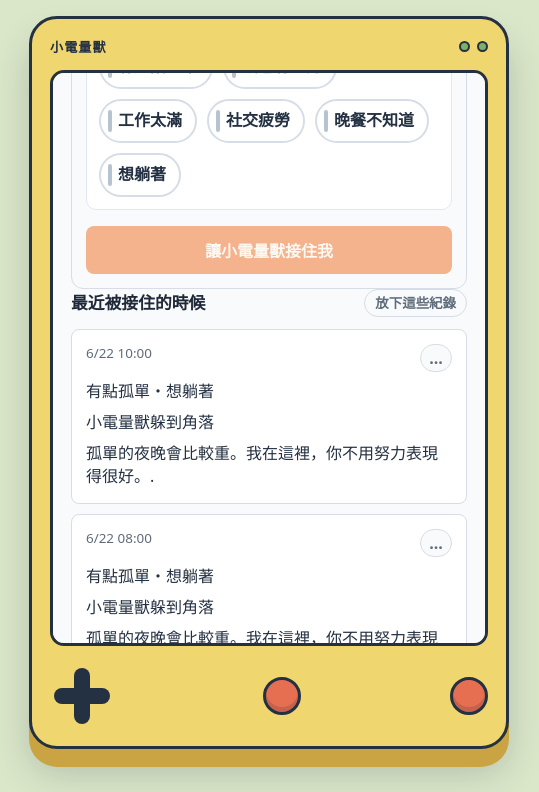
App › shows the cleared empty state after deleting the last local history day
(page scrolled)
Click the button "..." in the row of "6/22 10:00" at [436, 358], box 420,344 -> 452,372
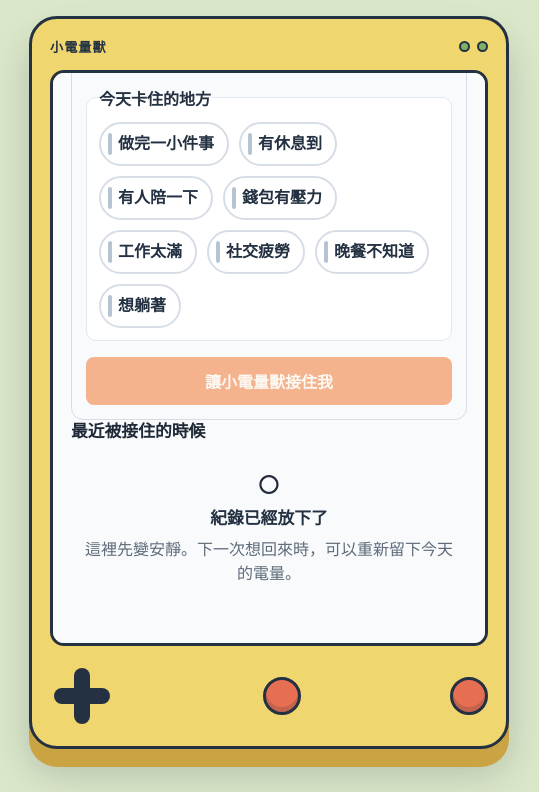
Check: the element with test id "history-card" is gone
Check: the text "紀錄已經放下了" is shown, box 210,506 -> 328,529
Check: the text "這裡先變安靜。下一次想回來時，可以重新留下今天的電量。" is shown, box 83,537 -> 455,585
